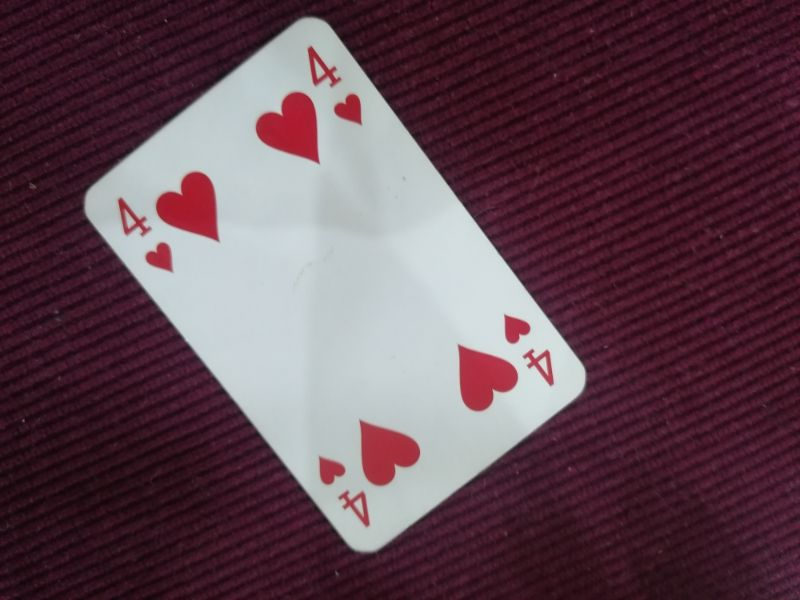4h: (299, 39, 366, 130), (113, 195, 179, 277), (314, 451, 377, 532), (498, 311, 559, 388)
